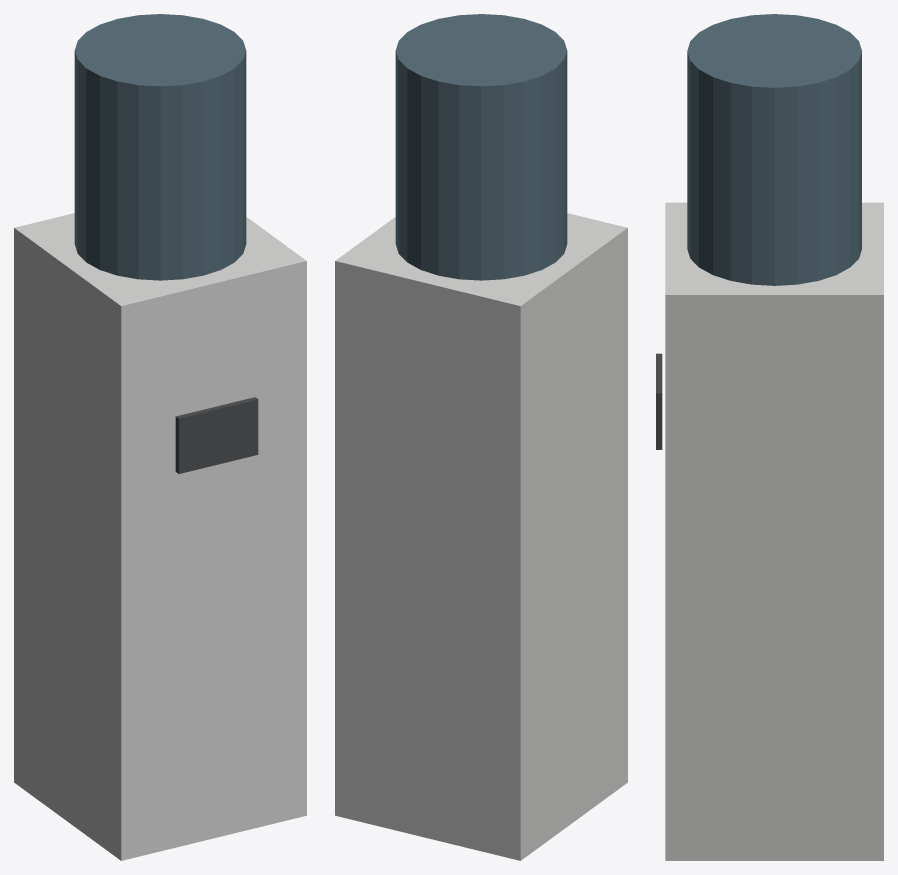
Rendered from road-car-showroom-lineup-water-dispenser-e44a32c1__15156.glb.
The picture shows the model from 3 angles, left to right: view 1: azimuth 30°, elevation 25°; view 2: azimuth 150°, elevation 25°; view 3: azimuth 270°, elevation 25°; orthographic projection.
Visible parts, largest first — view 1: water-dispenser; view 2: water-dispenser; view 3: water-dispenser.
Part boxes in pixels (left/top/right/bottom): water-dispenser: left=14, top=14, right=306, bottom=860; water-dispenser: left=335, top=14, right=627, bottom=860; water-dispenser: left=656, top=14, right=883, bottom=860.
Bounding box in the file's own units: 0.35 × 1.35 × 0.365.
